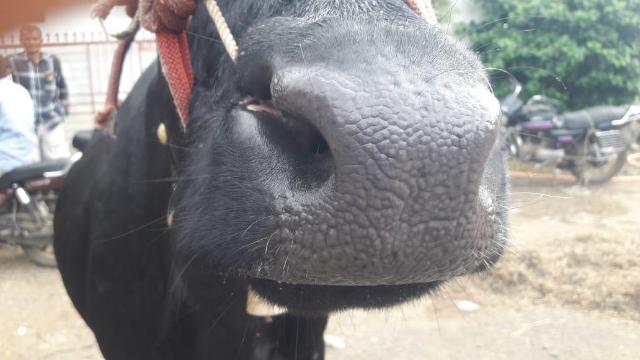Muzzle: (312, 76, 486, 270)
